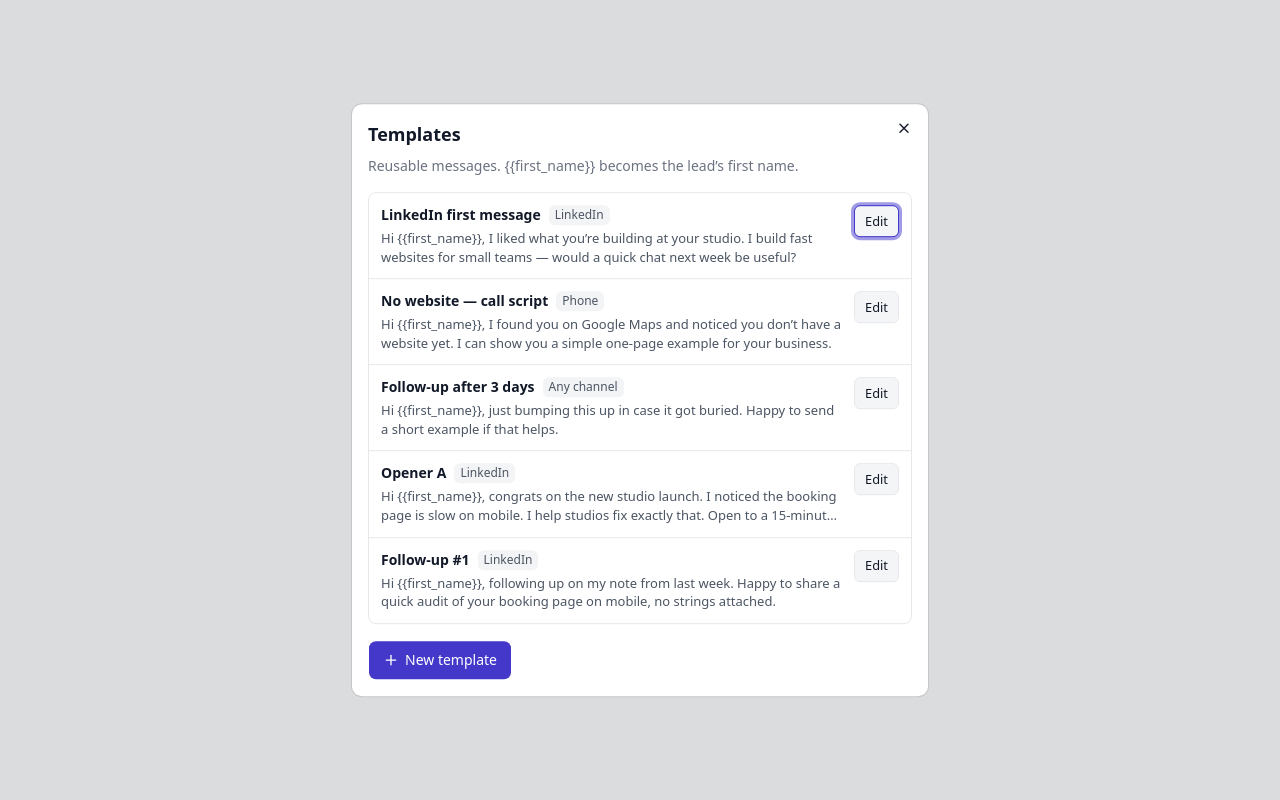
it: TemplatesDialog › edits a template with a live preview and saves it with its id
This screenshot has width=1280, height=800.
Click the button with aria-label "Edit LinkedIn first message" at x=877, y=221, box 854,205 -> 899,237
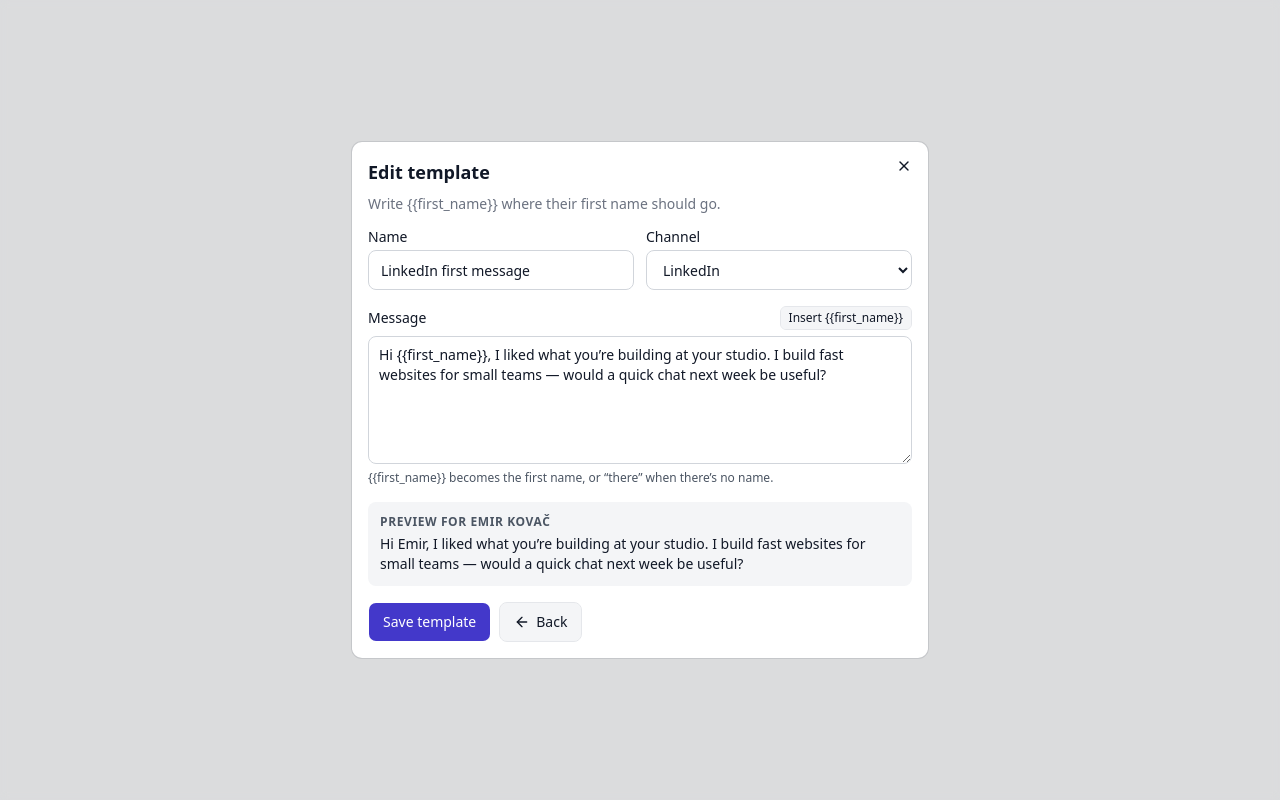
Expected: the heading "Edit template" is shown, 368,160 -> 490,184
Expected: the text "Hi Emir, I liked" is shown, 380,534 -> 869,573
Replace the text in the field labelled "Name" with "LinkedIn hello" at x=501, y=270, box 368,250 -> 634,290
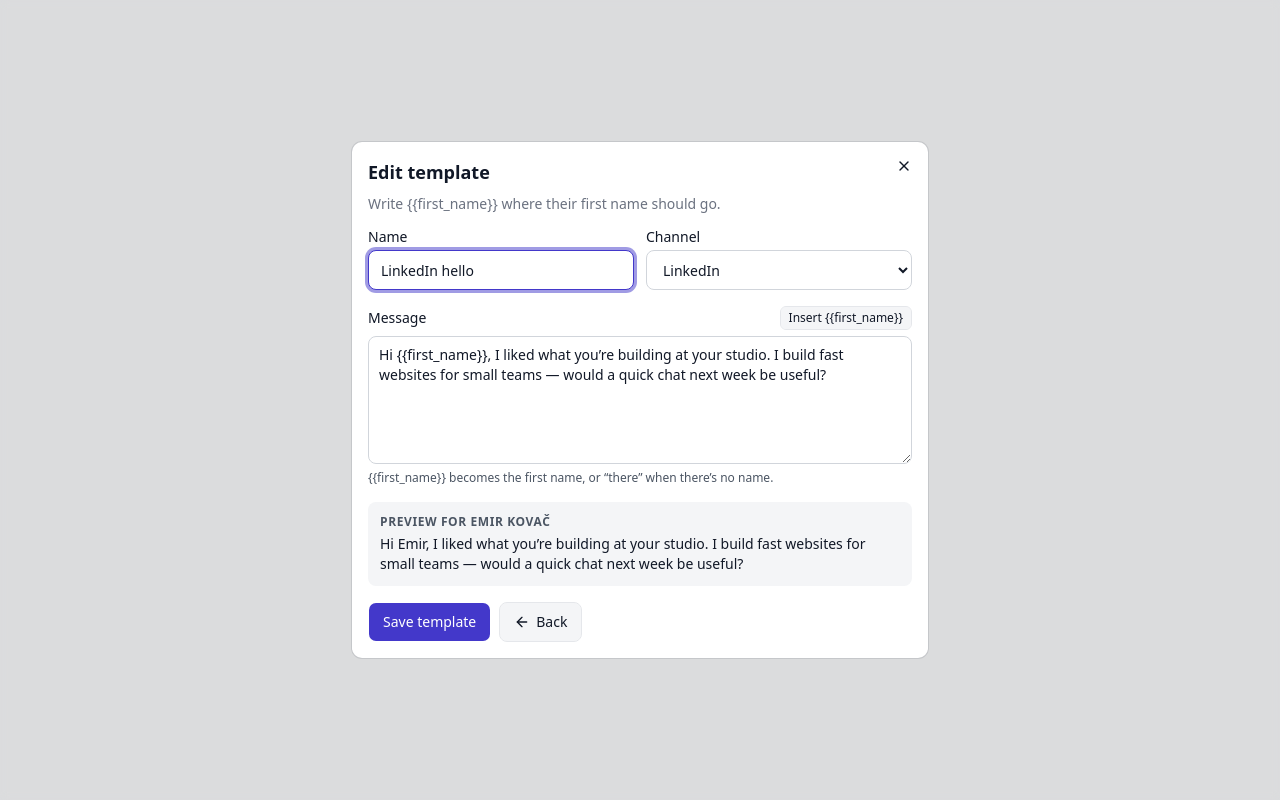
Click the button "Save template" at x=430, y=622, box 368,602 -> 491,642
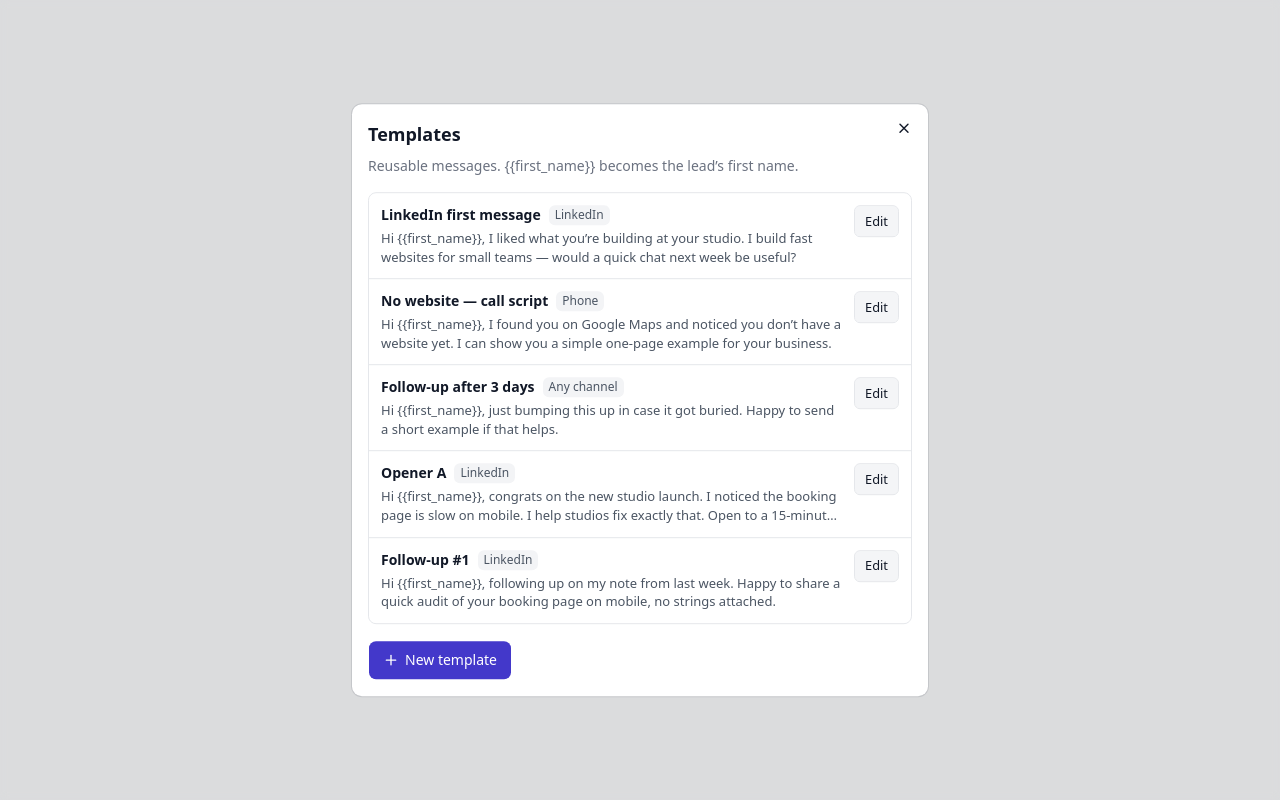
Expected: the heading "Templates" is shown, 368,122 -> 461,146
